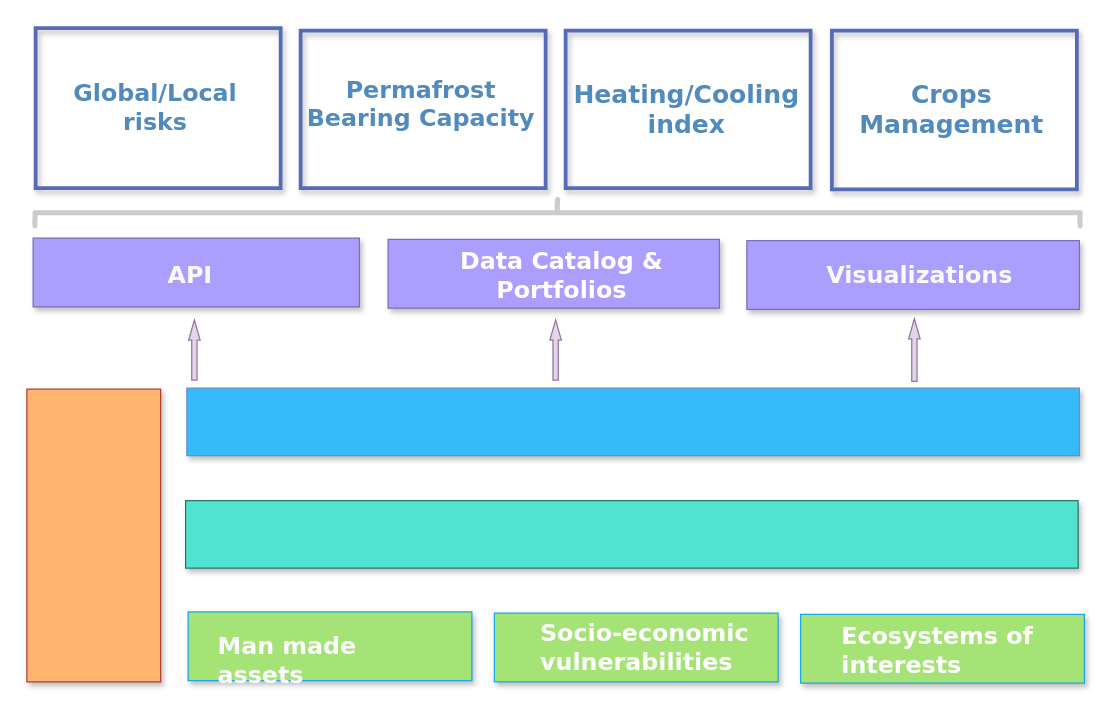
Image size: 1114x714. Some labels were removed from this diagram. Here are the shapes that lost their labels. From the top down, the centre of each, then its label:
At (634,423): "Climate risk from 2030 to 2100".
At (94,537): "Machine Learning".
At (632,535): "Earth data interactions".
